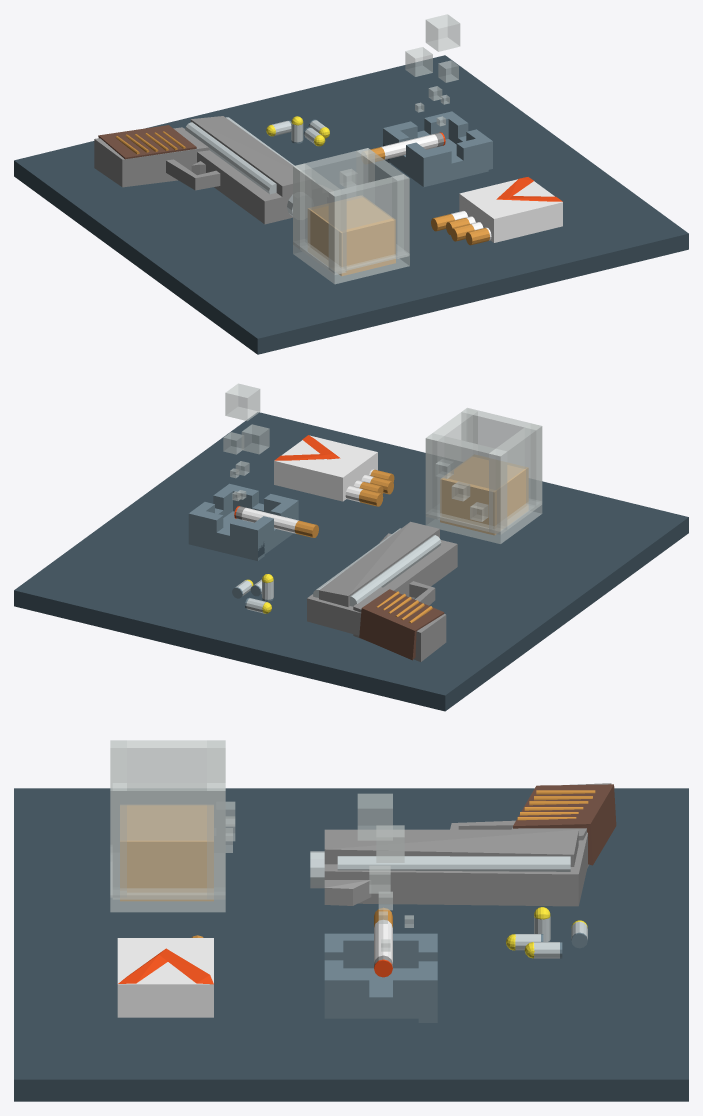
File: essentials.glb
The picture shows the model from 3 angles, top to bottom: view 1: azimuth 30°, elevation 25°; view 2: azimuth 150°, elevation 25°; view 3: azimuth 270°, elevation 25°; orthographic projection. The views are drawn at different scales.
Visible parts, largest first — view 1: group837147057, group212573596, group237081995, group1414747372, group2026107823, group1810640106, group1269622547, group95227650, group2132876599, group676378822; view 2: group837147057, group212573596, group237081995, group1414747372, group1810640106, group2026107823, group2132876599, group1269622547, group95227650, group676378822; view 3: group837147057, group212573596, group237081995, group1414747372, group2026107823, group1810640106, group1269622547, group2132876599, group95227650, group676378822.
Boxes of the visible parts, x1,y1,x2,y2 form: group837147057: [14, 55, 688, 354]; group212573596: [293, 14, 460, 284]; group237081995: [94, 116, 443, 224]; group1414747372: [288, 111, 492, 186]; group2026107823: [308, 196, 395, 275]; group1810640106: [380, 134, 562, 242]; group1269622547: [185, 117, 325, 216]; group95227650: [115, 131, 489, 245]; group2132876599: [98, 125, 196, 159]; group676378822: [439, 132, 562, 201]; group837147057: [14, 412, 688, 711]; group212573596: [223, 383, 542, 543]; group237081995: [235, 506, 457, 661]; group1414747372: [188, 483, 298, 609]; group1810640106: [241, 435, 377, 533]; group2026107823: [440, 455, 528, 535]; group2132876599: [359, 589, 444, 660]; group1269622547: [236, 528, 441, 613]; group95227650: [294, 469, 432, 623]; group676378822: [234, 435, 340, 518]; group837147057: [14, 788, 688, 1101]; group212573596: [110, 740, 413, 951]; group237081995: [324, 783, 611, 967]; group1414747372: [324, 932, 587, 1022]; group2026107823: [120, 805, 213, 901]; group1810640106: [117, 920, 392, 1017]; group1269622547: [310, 851, 587, 958]; group2132876599: [513, 784, 616, 865]; group95227650: [191, 790, 595, 937]; group676378822: [118, 948, 392, 984].
Bounding box in the file's own units: 2.93 × 1.04 × 2.87.
